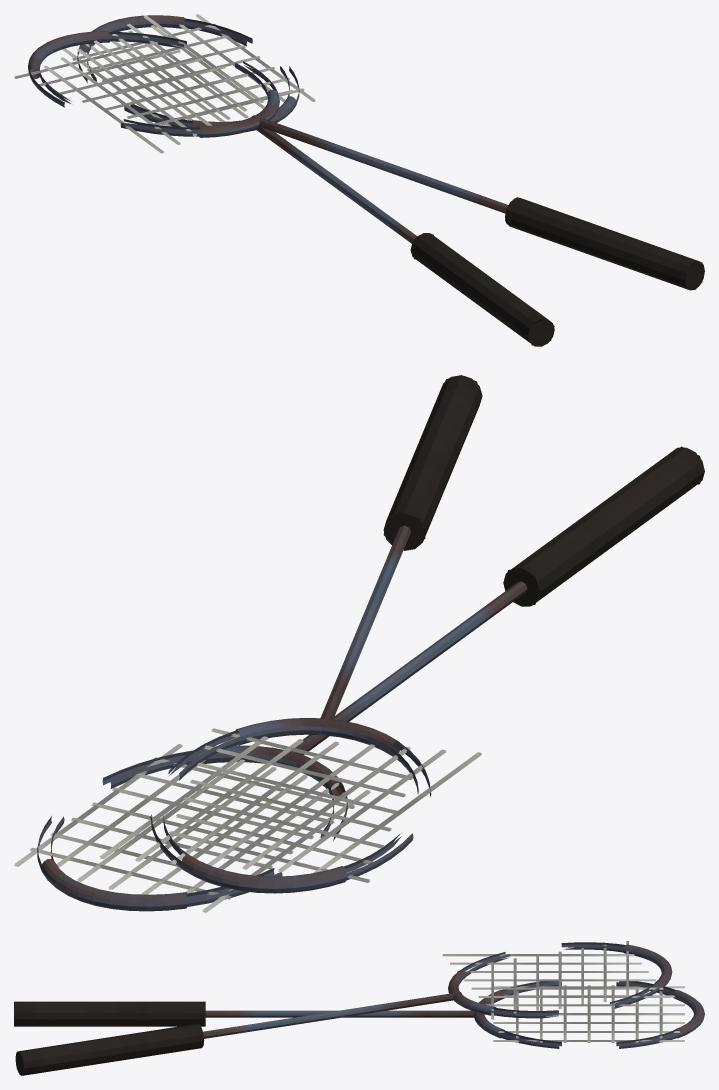
File: SP15_BadmintonRackets.glb
The picture shows the model from 3 angles, top to bottom: view 1: azimuth 30°, elevation 25°; view 2: azimuth 150°, elevation 25°; view 3: azimuth 270°, elevation 25°; orthographic projection. The views are drawn at different scales.
Visible parts, largest first — view 1: SP15_BadmintonRackets; view 2: SP15_BadmintonRackets; view 3: SP15_BadmintonRackets.
Boxes of the visible parts, <box> form: SP15_BadmintonRackets: <box>14,14,704,346</box>; SP15_BadmintonRackets: <box>14,375,704,912</box>; SP15_BadmintonRackets: <box>14,941,704,1075</box>.
Size of the model in its own units: 0.3046 by 0.0398 by 0.7.
Materials: 3 (3 with a texture image).
